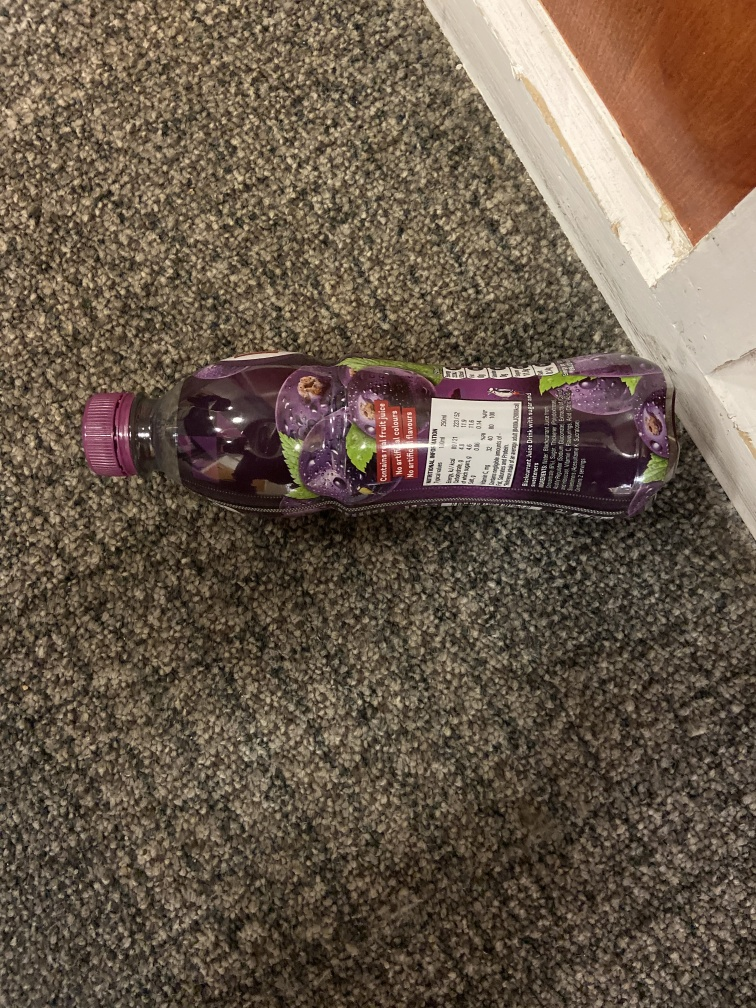bottle_purple: (74, 345, 687, 529)
